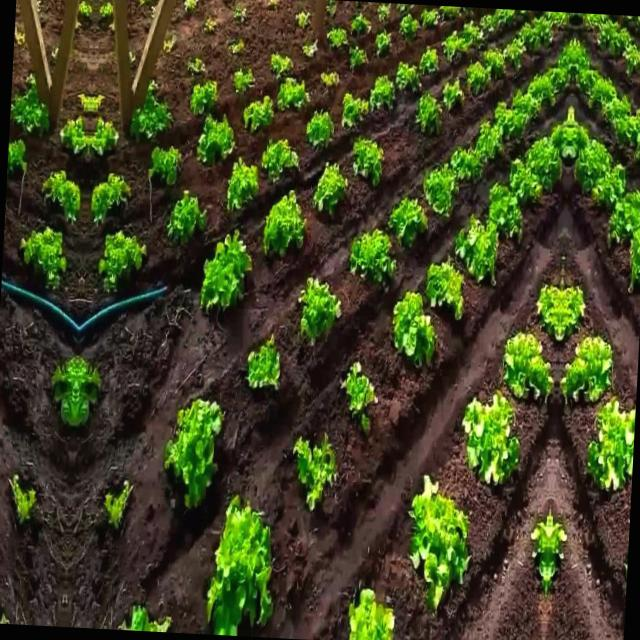healthy: (202, 492, 278, 638), (403, 476, 476, 612), (163, 392, 224, 511), (457, 391, 525, 487), (198, 222, 253, 316), (584, 398, 636, 492), (497, 328, 558, 406), (558, 331, 619, 409), (290, 424, 339, 512), (294, 271, 347, 351), (391, 288, 440, 370), (450, 215, 502, 283), (346, 224, 399, 284), (262, 189, 308, 257), (345, 582, 398, 640), (99, 227, 150, 286), (17, 223, 68, 282), (424, 255, 468, 322), (338, 364, 380, 434), (164, 187, 206, 247), (220, 156, 262, 216), (310, 158, 350, 219), (484, 184, 526, 242), (243, 336, 286, 392), (194, 116, 240, 168), (90, 170, 132, 226), (347, 134, 388, 191), (128, 91, 171, 145), (10, 84, 53, 138), (388, 193, 430, 248), (40, 168, 82, 223), (256, 131, 301, 182), (75, 353, 102, 433), (51, 352, 78, 432), (524, 132, 560, 190), (576, 135, 612, 193), (591, 154, 628, 208), (508, 149, 544, 204), (606, 190, 640, 248), (559, 283, 590, 344), (146, 138, 182, 190), (531, 282, 562, 342), (240, 90, 278, 138), (418, 168, 459, 210), (470, 120, 507, 166), (620, 486, 632, 620), (447, 144, 482, 187), (304, 106, 338, 150), (338, 90, 370, 136), (368, 71, 399, 115), (274, 71, 308, 111), (58, 113, 90, 155), (90, 115, 122, 156), (392, 55, 424, 96), (492, 98, 526, 136), (438, 28, 471, 67), (414, 90, 444, 131), (189, 75, 222, 112), (7, 130, 30, 182), (465, 58, 495, 94), (597, 96, 634, 124), (509, 92, 546, 119), (625, 224, 640, 290), (526, 76, 560, 105), (585, 79, 619, 108), (615, 104, 640, 142), (229, 66, 256, 99), (439, 80, 466, 112), (416, 45, 441, 78), (540, 67, 570, 93), (576, 69, 606, 95), (398, 13, 423, 42), (374, 23, 396, 55), (345, 44, 370, 72), (324, 26, 348, 51), (350, 8, 370, 36), (632, 128, 640, 173)
